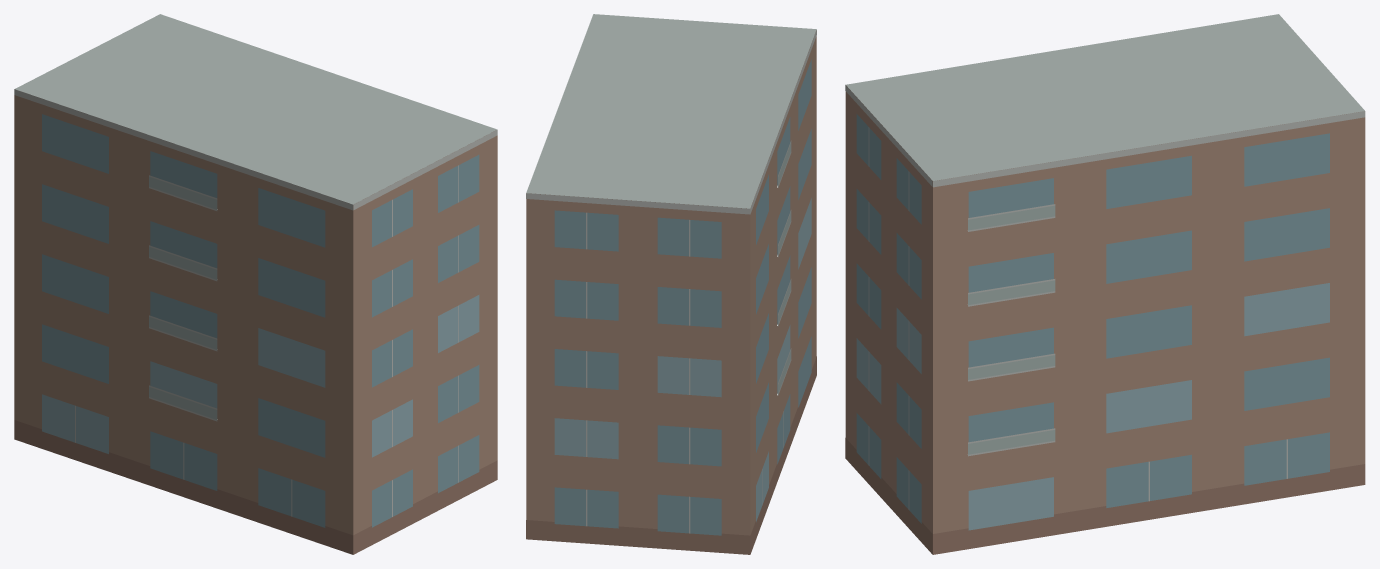
The model's file is survey-upis-32867202.glb.
3 views of the same model, side by side, from view 1: azimuth 30°, elevation 25°; view 2: azimuth 150°, elevation 25°; view 3: azimuth 270°, elevation 25° (orthographic). The views are drawn at different scales.
Parts seen in each view (by area): view 1: survey-upis-32867202.tmp; view 2: survey-upis-32867202.tmp; view 3: survey-upis-32867202.tmp.
Part boxes in pixels (bbox=[...]): survey-upis-32867202.tmp: bbox=[14, 14, 497, 554]; survey-upis-32867202.tmp: bbox=[526, 14, 816, 554]; survey-upis-32867202.tmp: bbox=[845, 14, 1365, 554].
Bounding box in the file's own units: 13.91 × 14.5 × 18.28.
